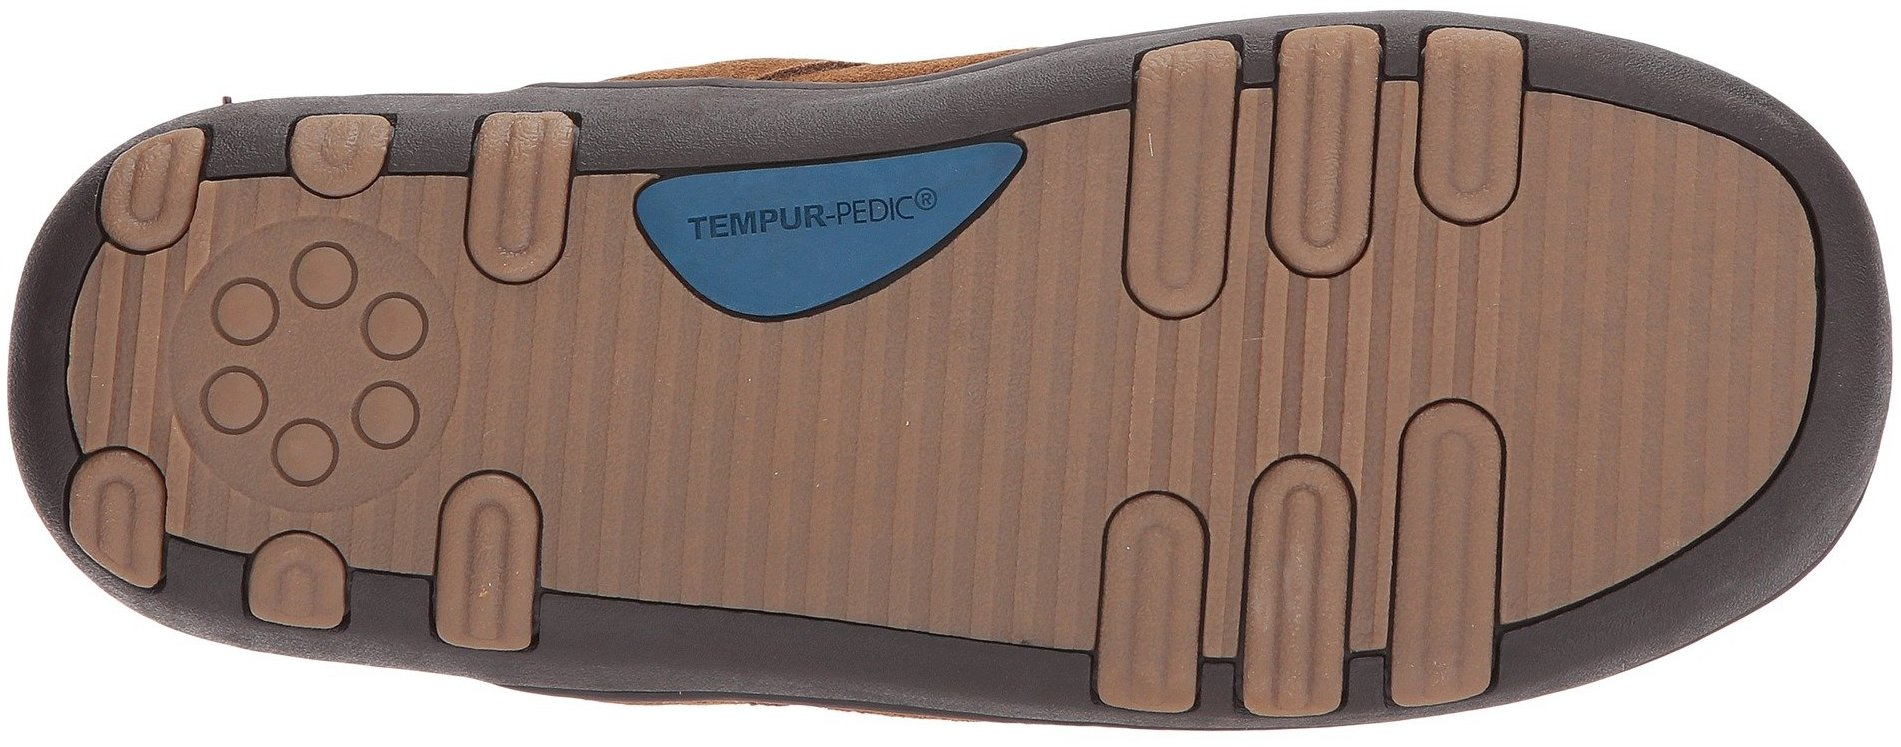circle: (137, 161, 529, 538)
line: (137, 161, 529, 538), (1064, 367, 1392, 739), (1091, 10, 1402, 360), (680, 137, 969, 401)
quad: (1064, 367, 1392, 739), (1091, 10, 1402, 360)
text: (680, 137, 969, 401)
